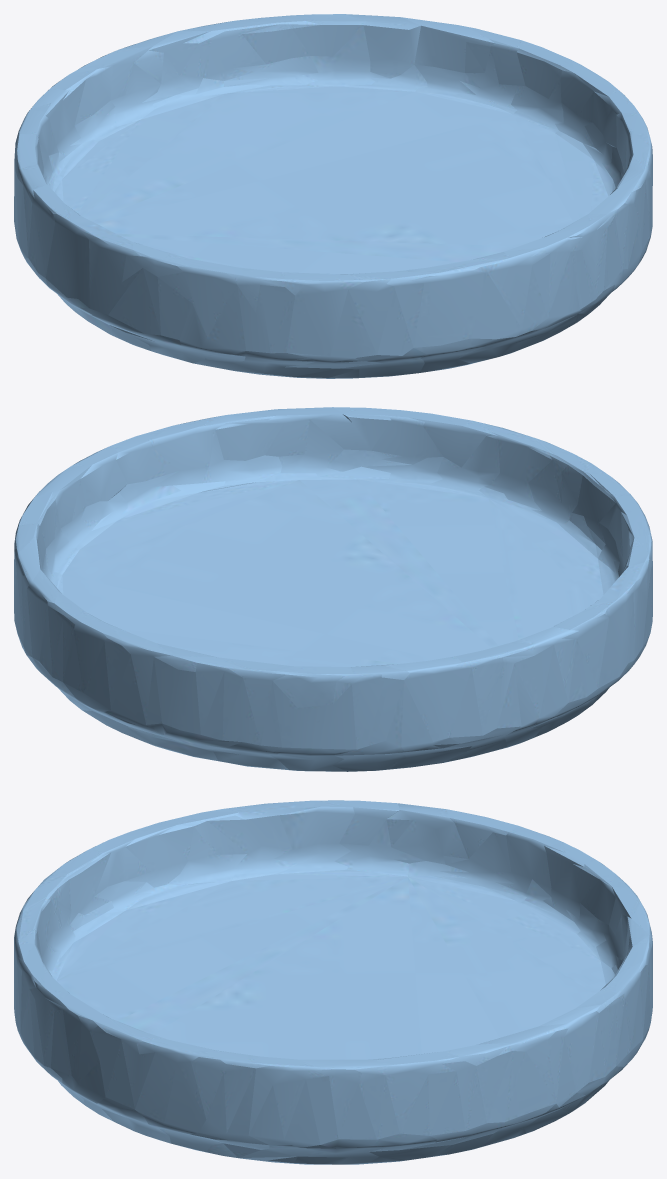
The model's file is plate.4d91f37f.glb.
The picture shows the model from 3 angles, top to bottom: view 1: azimuth 30°, elevation 25°; view 2: azimuth 150°, elevation 25°; view 3: azimuth 270°, elevation 25°; orthographic projection.
Visible parts, largest first — view 1: output_unwrapped; view 2: output_unwrapped; view 3: output_unwrapped.
Boxes of the visible parts, <box> form: output_unwrapped: <box>14,14,652,378</box>; output_unwrapped: <box>14,407,652,771</box>; output_unwrapped: <box>14,800,652,1164</box>.
Size of the model in its own units: 1.9 by 0.3633 by 1.9.
1 material, 1 textured.
